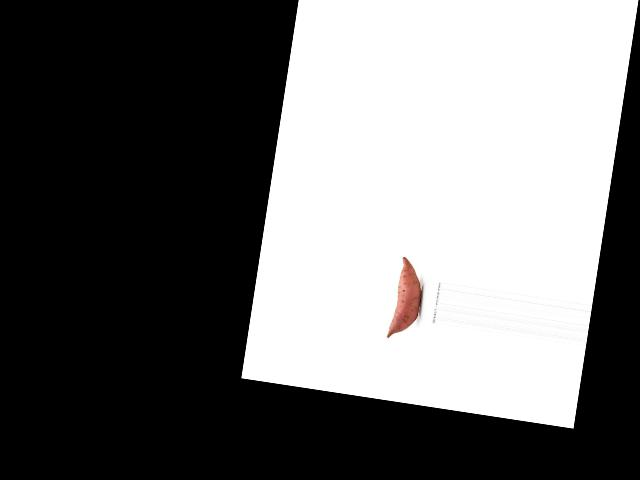sweet_potato: (382, 254, 427, 342)
